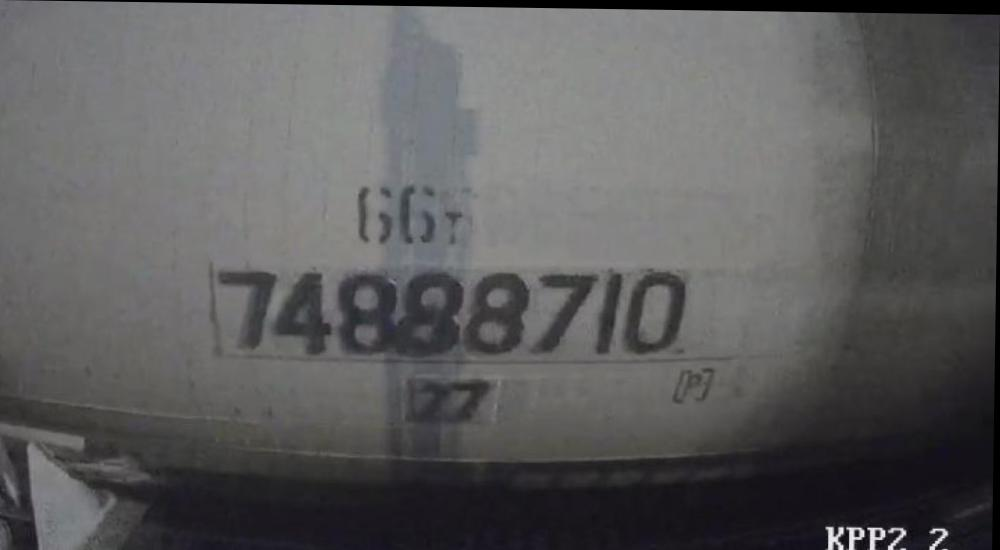Wagon-number: (213, 256, 689, 363)
